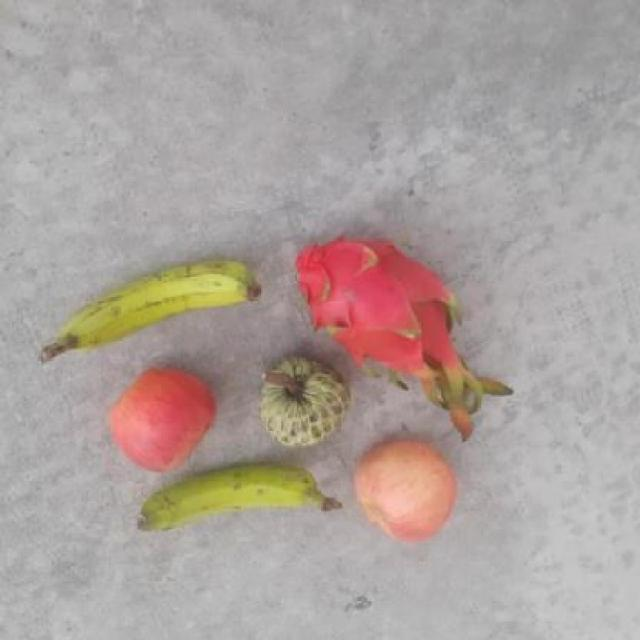apple: (108, 367, 214, 473), (357, 443, 458, 545)
banana: (61, 254, 265, 365), (138, 455, 325, 538)
dragon fruit: (294, 230, 461, 373)
sugar apple: (249, 358, 343, 451)
